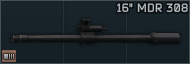MDR .308 16 inch barrel: (0, 0, 190, 64)
